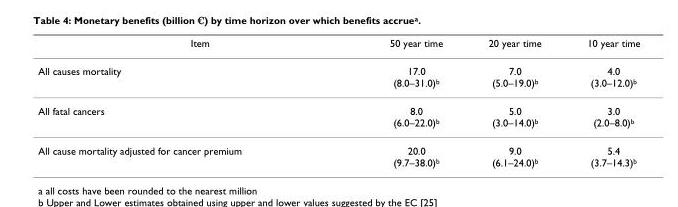table: (37, 36, 639, 167)
table column: (37, 36, 314, 167), (314, 36, 464, 167), (464, 36, 563, 167), (563, 36, 639, 167)
table column header: (37, 36, 639, 56)
table row: (37, 56, 639, 96), (37, 96, 639, 136), (37, 136, 639, 167), (37, 36, 639, 56)
